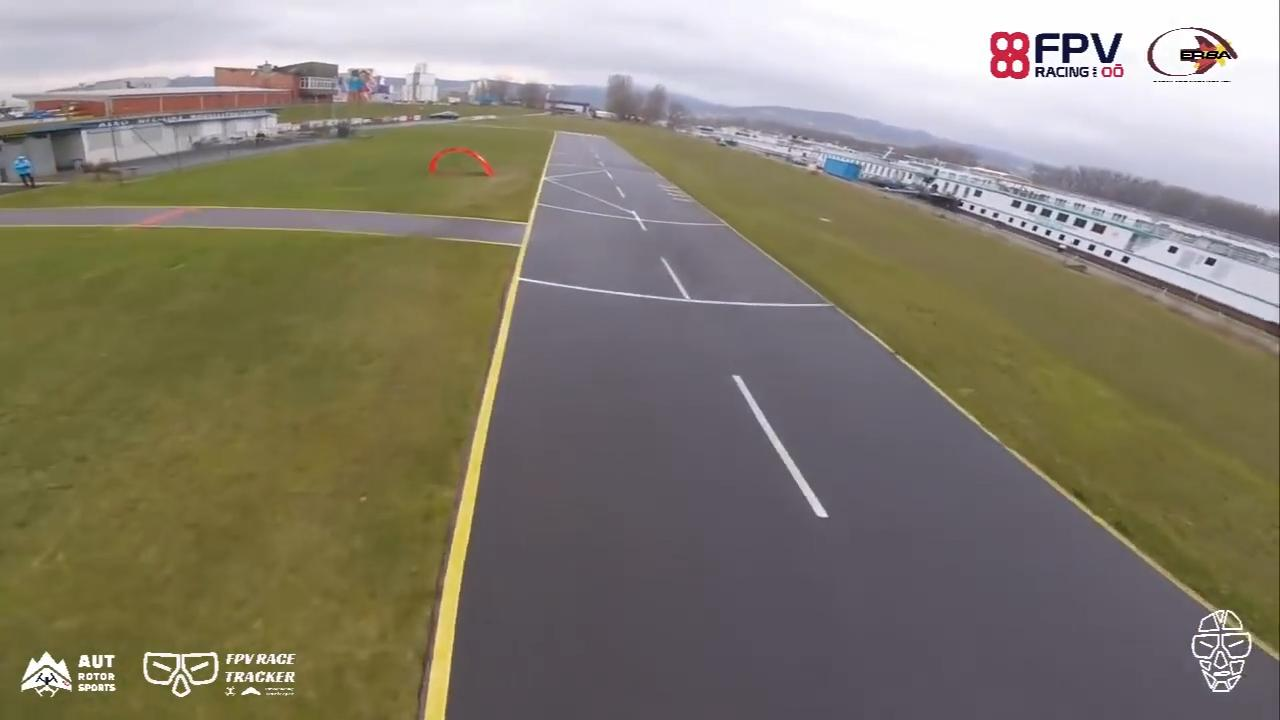gate: (431, 146, 492, 185)
